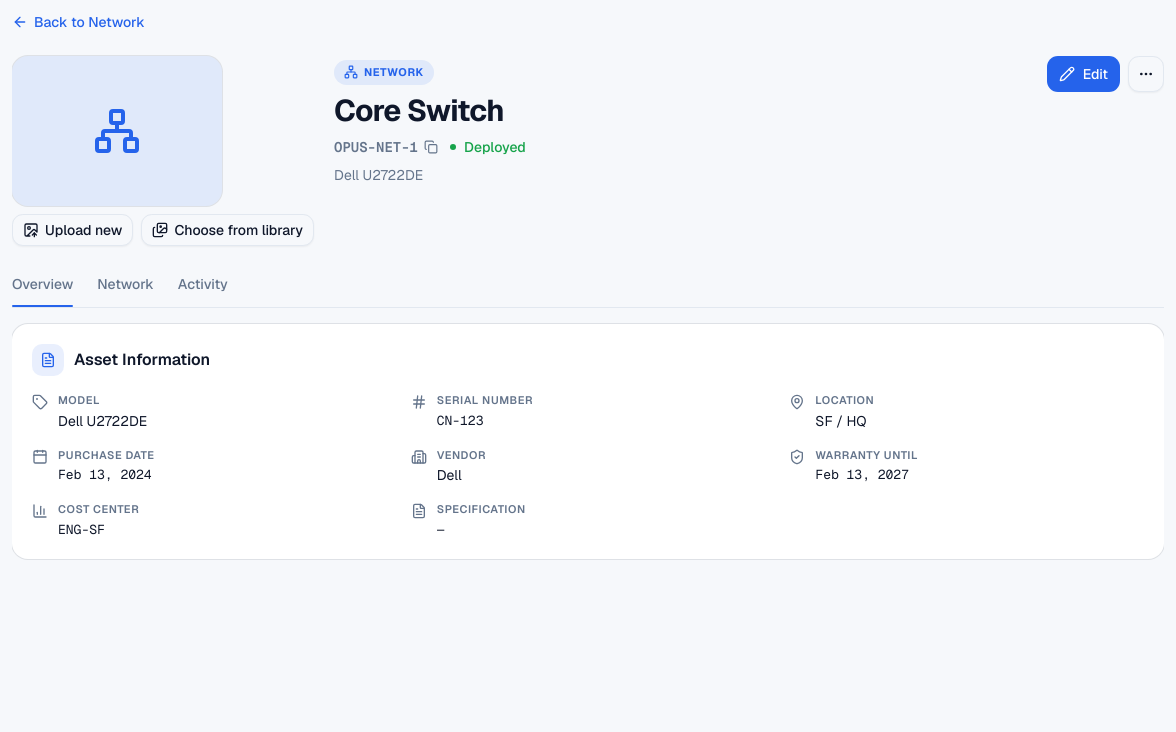
Scenario: ThinAssetDetail — Network (AC-5.2, AC-5.3) › has Overview / Network / Activity tabs, no Assignment tab
This screenshot has width=1176, height=732.
Click the tab "Network" at (126, 289), box [97, 270, 154, 308]
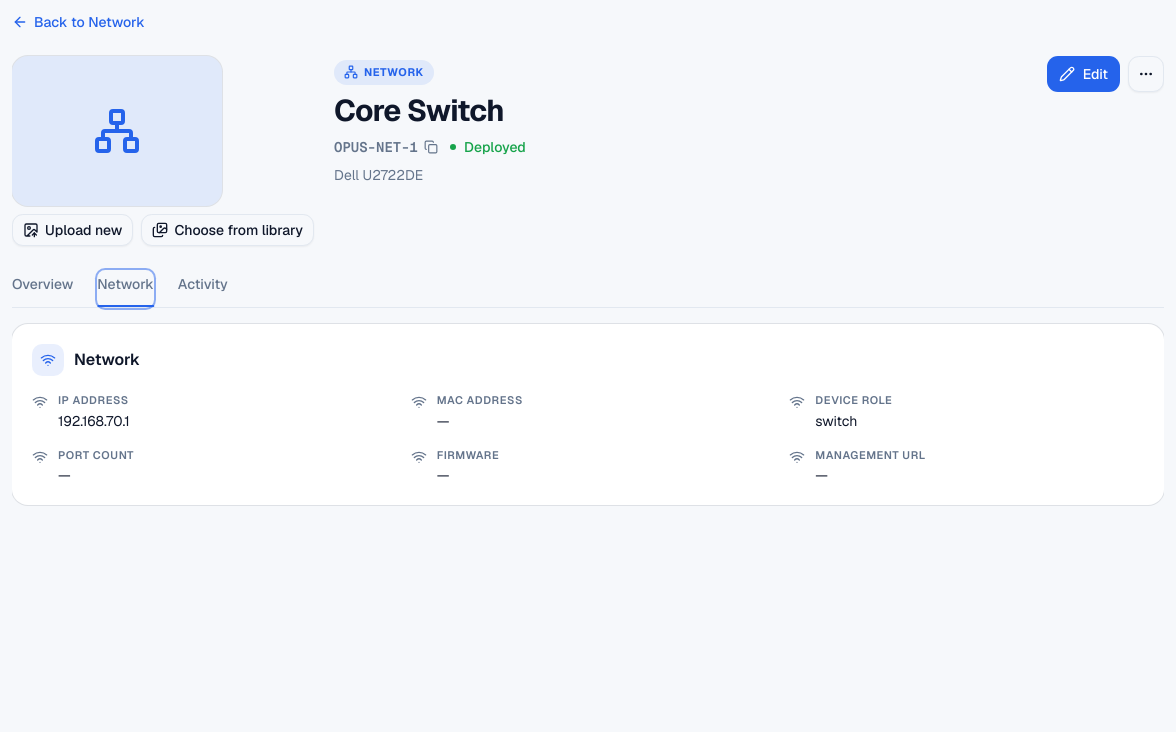
Now the text "192.168.70.1" is shown, box [58, 410, 130, 430]
